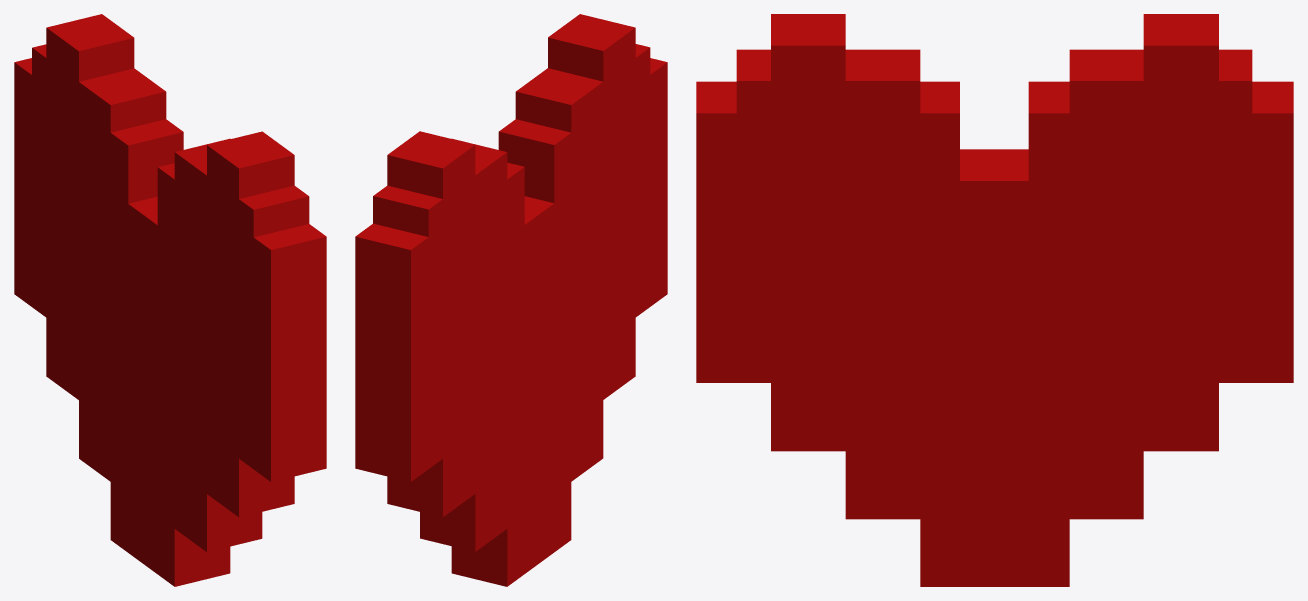
Rendered from heart.glb.
The picture shows the model from 3 angles, left to right: view 1: azimuth 30°, elevation 25°; view 2: azimuth 150°, elevation 25°; view 3: azimuth 270°, elevation 25°; orthographic projection. The views are drawn at different scales.
Visible parts, largest first — view 1: Object_2, Object_3; view 2: Object_2, Object_3; view 3: Object_2, Object_3.
Part boxes in pixels (<box>): Object_2: <box>14,14,326,586</box>; Object_3: <box>14,62,270,481</box>; Object_2: <box>355,14,667,586</box>; Object_3: <box>411,62,667,481</box>; Object_2: <box>696,14,1293,586</box>; Object_3: <box>696,113,1293,382</box>.
Bounding box in the file's own units: 1 × 8 × 8.
